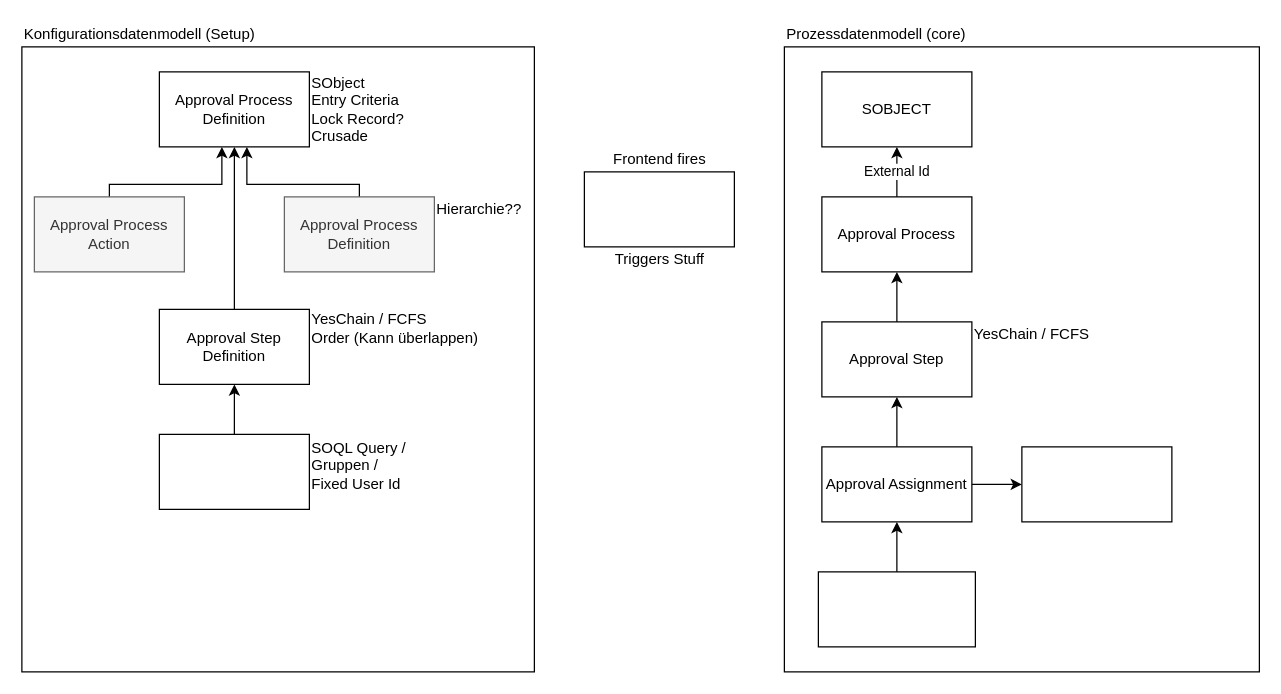
This 1281x694 diagram has some shape labels left out. Here are the shapes that lost their labels. From the top down, the centre of each, then its label:
the point at 658,209: Approval Event
the point at 233,471: Approver Definition
the point at 1096,484: User
the point at 896,609: PIWI ProcessInstance WorkItem
